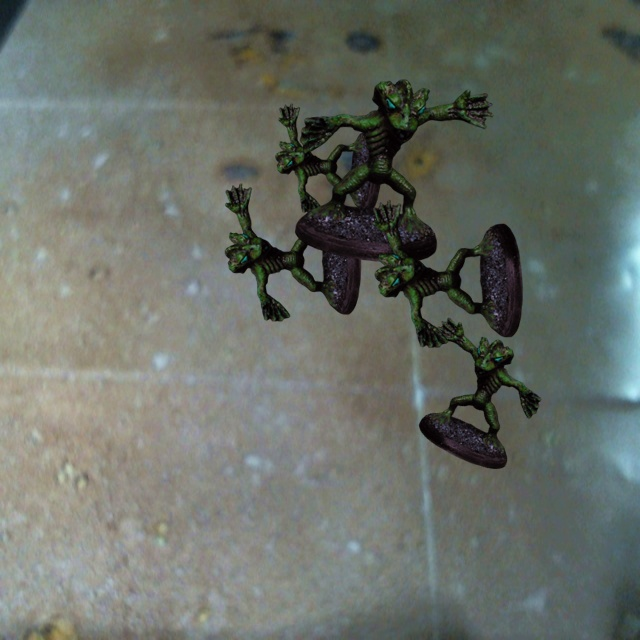pieza_juego: (295, 79, 493, 262), (373, 200, 522, 347), (225, 183, 360, 321), (419, 318, 540, 468), (275, 103, 381, 213)
